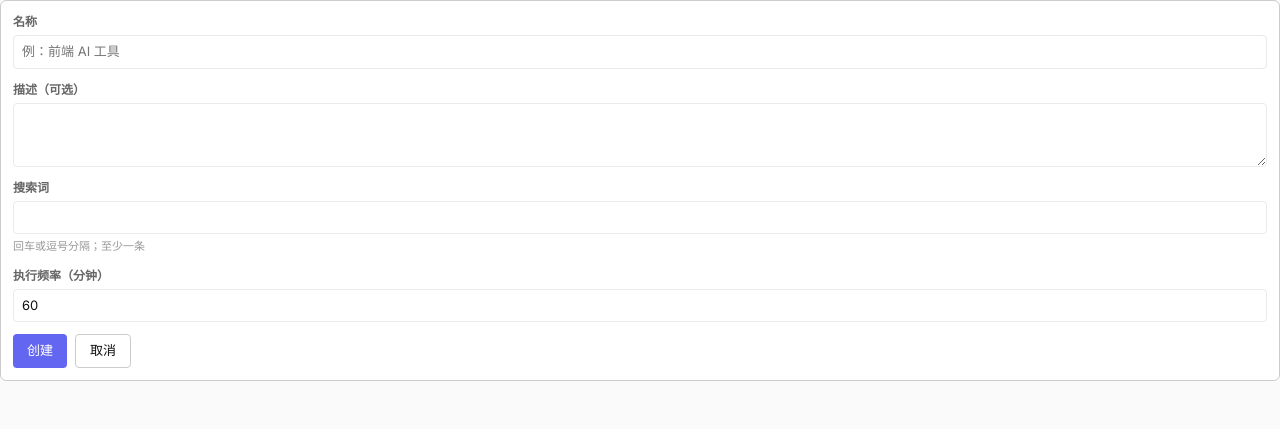
<InterestForm> new mode › blocks submit when no searchQueries
Type "A" into the field labelled "名称" at (640, 52), box [13,35,1267,68]
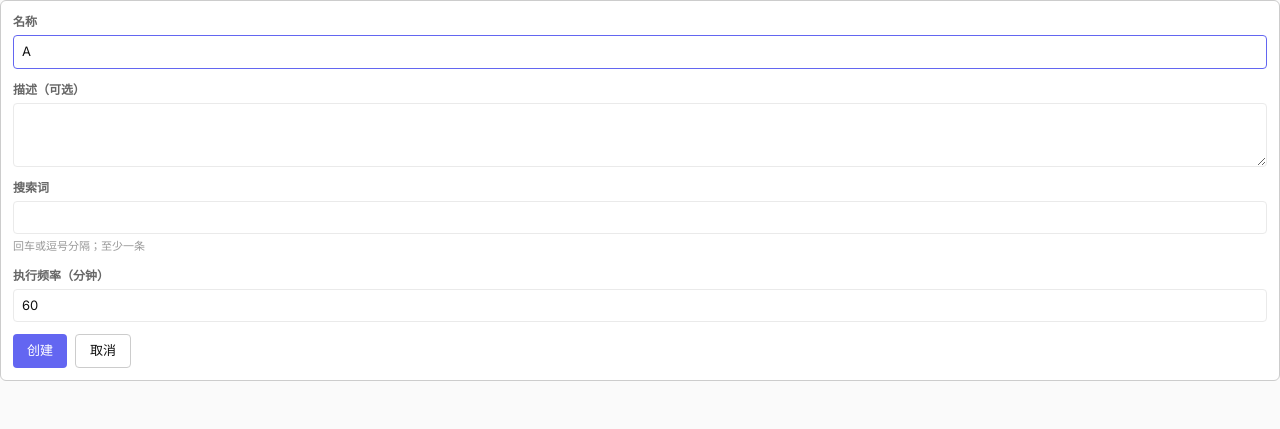
Click the button "创建" at (40, 351), box [13,334,67,368]
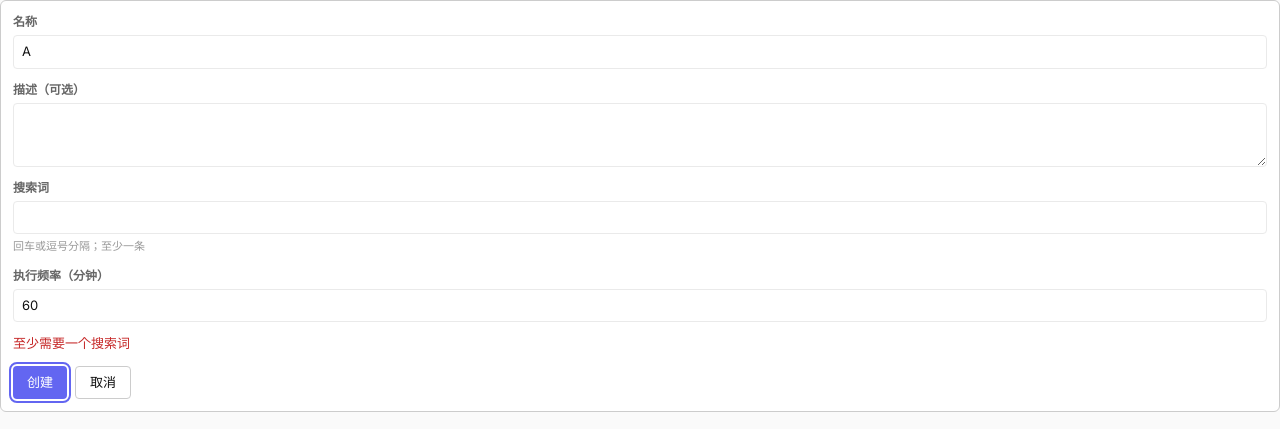
Now the text "至少需要一个搜索词" is shown, box [13,335,130,351]
